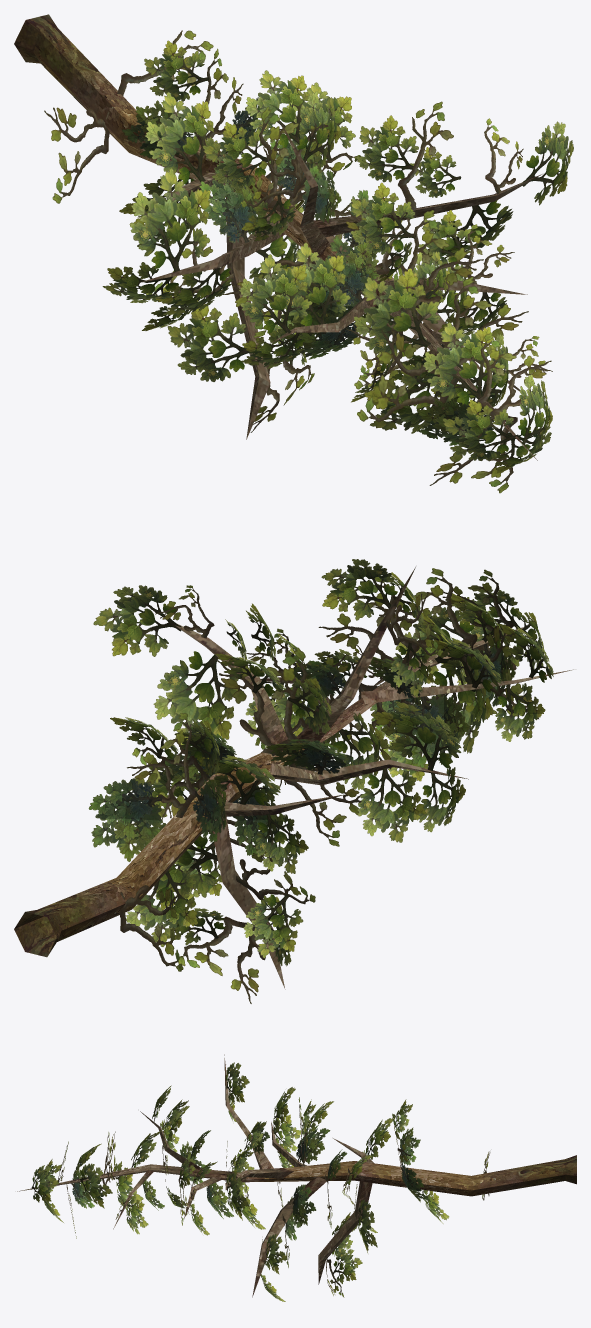
Rendered from dayean.obj.
3 renders of one model, top to bottom at view 1: azimuth 30°, elevation 25°; view 2: azimuth 150°, elevation 25°; view 3: azimuth 270°, elevation 25°, orthographic. The views are drawn at different scales.
Visible parts, largest first — view 1: dayean; view 2: dayean; view 3: dayean.
Part boxes in pixels (x1=…): dayean: x1=14, y1=14, x2=573, y2=493; dayean: x1=14, y1=559, x2=573, y2=1003; dayean: x1=17, y1=1054, x2=576, y2=1301.
Size of the model in its own units: 175 by 168 by 349.
3 materials, 3 textured.
